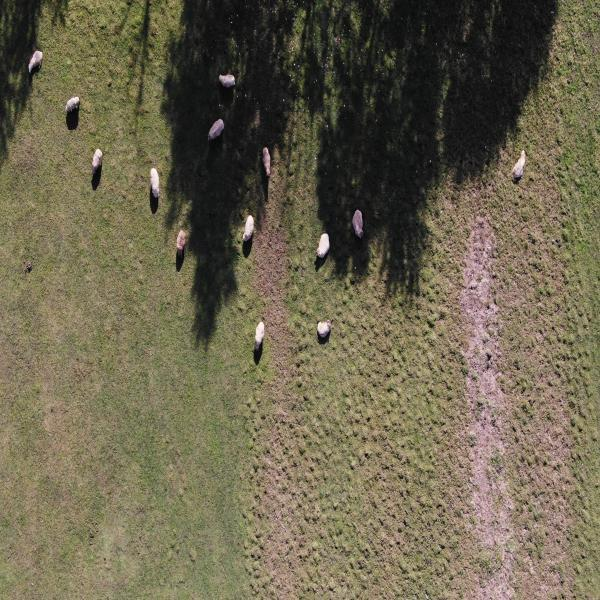sheep: (147, 158, 166, 210), (88, 135, 108, 184), (250, 316, 273, 358), (239, 209, 260, 254), (172, 222, 191, 267), (22, 44, 47, 75), (314, 312, 338, 343), (510, 145, 531, 180), (206, 118, 229, 148), (215, 67, 239, 95), (314, 224, 333, 254), (350, 202, 366, 236), (260, 139, 274, 173), (63, 89, 77, 118)
